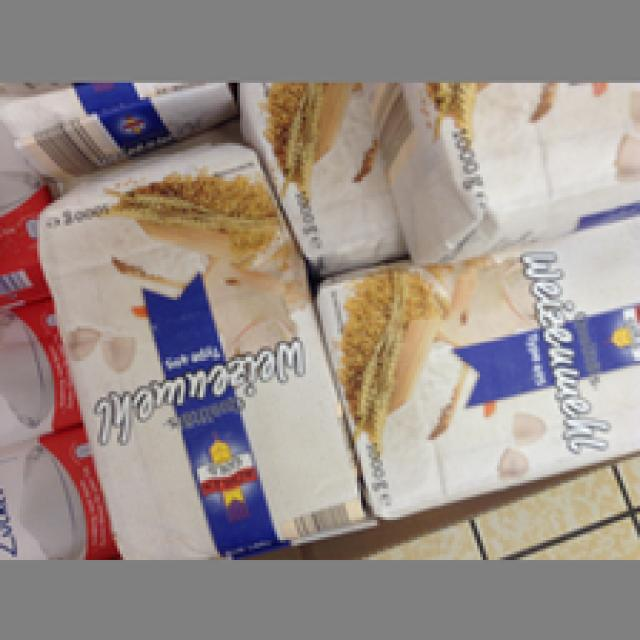groceries: (32, 137, 374, 557), (312, 214, 637, 520)
